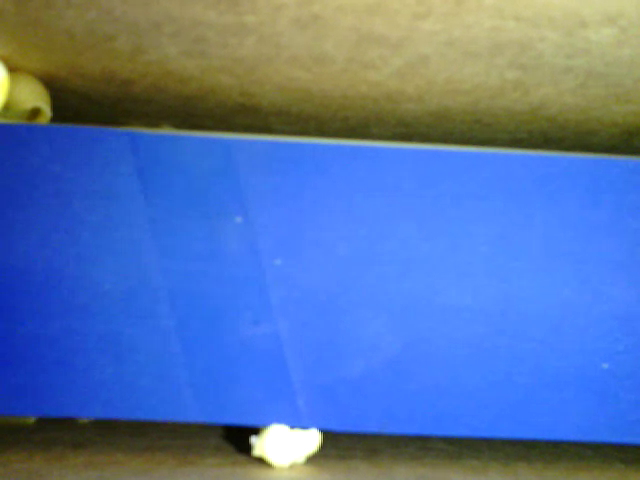shell: (6, 70, 54, 129)
